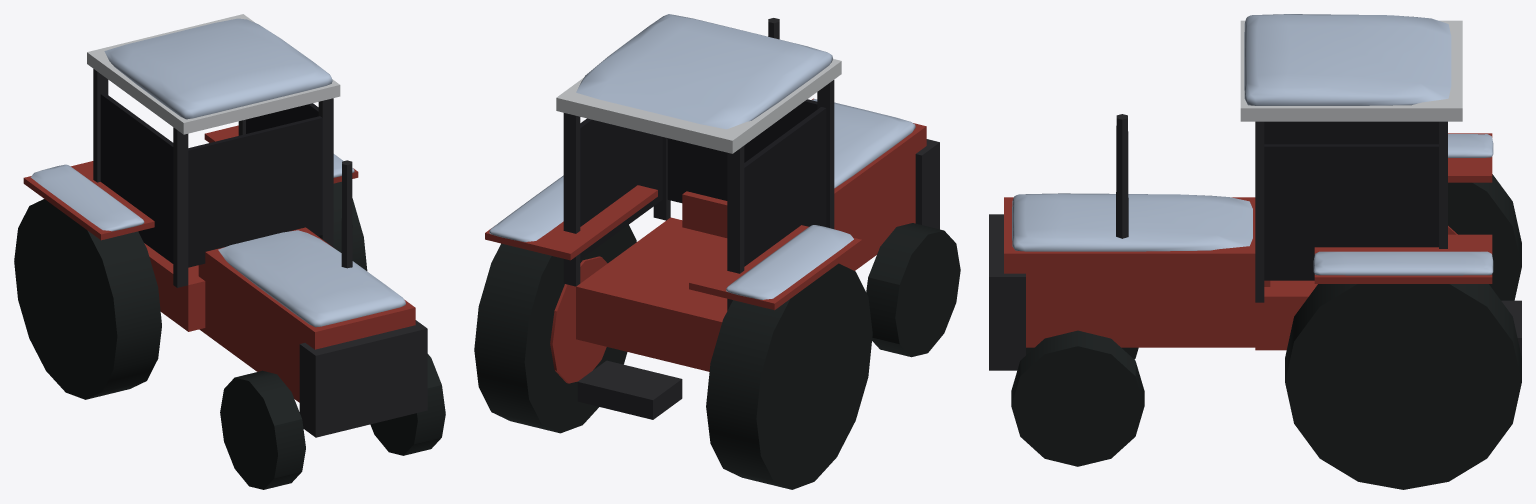
The model's file is tractor.glb.
3 views of the same model, side by side, from view 1: azimuth 30°, elevation 25°; view 2: azimuth 150°, elevation 25°; view 3: azimuth 270°, elevation 25° (orthographic). The views are drawn at different scales.
Parts seen in each view (by area): view 1: Prop; view 2: Prop; view 3: Prop.
Part boxes in pixels (x1=…): Prop: x1=14, y1=14, x2=445, y2=489; Prop: x1=474, y1=14, x2=960, y2=489; Prop: x1=989, y1=14, x2=1521, y2=489.
Bounding box in the file's own units: 2.3 × 2.77 × 3.6.
